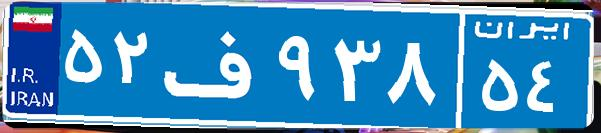2: (110, 28, 158, 105)
3: (330, 28, 385, 110)
4: (525, 38, 570, 115)
5: (57, 26, 110, 107), (475, 38, 525, 113)
8: (385, 28, 445, 110)
9: (273, 28, 330, 110)
ف: (158, 15, 273, 115)
